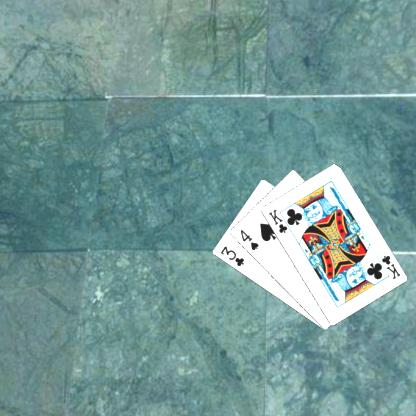3C: (217, 243, 245, 268)
4S: (237, 227, 260, 251)
KC: (266, 206, 294, 234), (374, 252, 401, 280)
